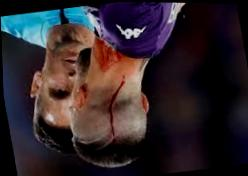Fire: (108, 76, 125, 141), (93, 38, 121, 72)
